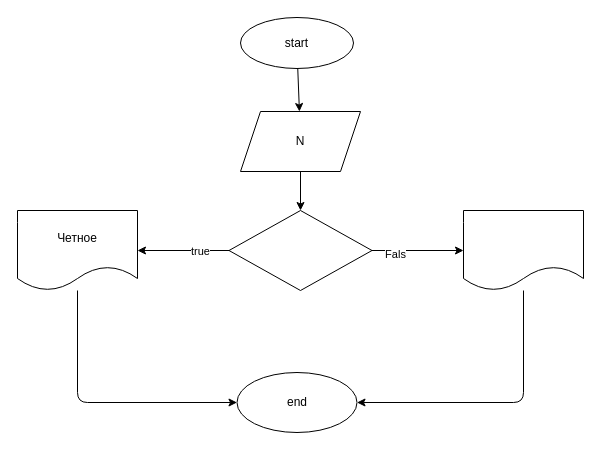
Image size: 601x450. Some labels were removed from this diagram. Each missing label, with the centre of its shape:
N / 2 без остатка: (x=300, y=250)
Нечетное: (x=523, y=250)
